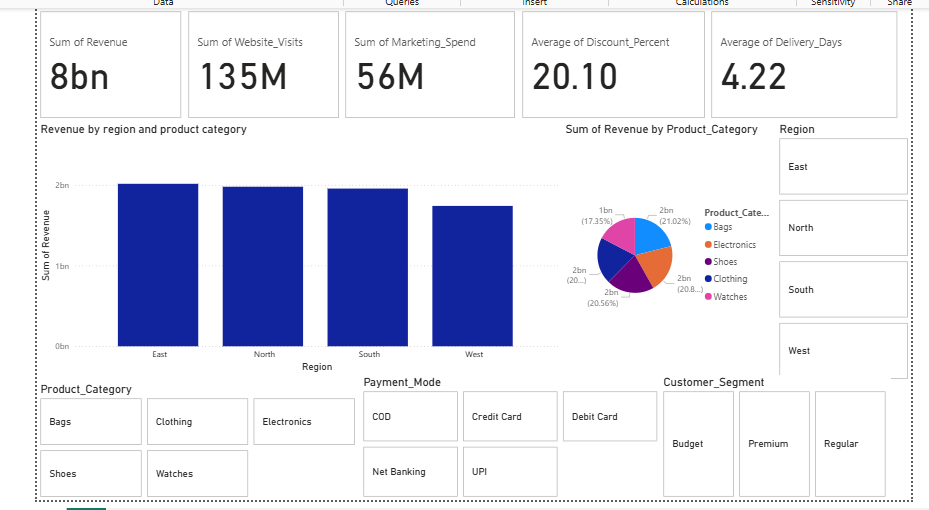

The dashboard page shown, as its layout file describes it:
{"tool":"powerbi","page":{"name":"Page 1","canvas":[1280,720],"ordinal":0},"visuals":[{"type":"columnChart","title":"Revenue by region and product category","fields":{"Category":["DATA1.Region"],"Y":["Sum(DATA1.Revenue)"]},"box":[0,166.3,767.7,371.2],"z":0},{"type":"cardVisual","fields":{"Data":["Sum(DATA1.Revenue)"]},"box":[0,0,216.7,166.3],"z":1},{"type":"cardVisual","fields":{"Data":["Sum(DATA1.Website_Visits)"]},"box":[216.7,0,230.1,166.3],"z":2},{"type":"cardVisual","fields":{"Data":["Sum(DATA1.Marketing_Spend)"]},"box":[446.8,0,258.7,166.3],"z":3},{"type":"cardVisual","fields":{"Data":["Avg(DATA1.Discount_Percent)"]},"box":[705.5,0,277.2,166.3],"z":4},{"type":"pieChart","fields":{"Category":["DATA1.Product_Category"],"Y":["Sum(DATA1.Revenue)"]},"box":[767.7,166.3,312.4,371.2],"z":5},{"type":"advancedSlicerVisual","fields":{"Values":["DATA1.Product_Category"]},"box":[0,547.6,472,173],"z":6},{"type":"advancedSlicerVisual","fields":{"Values":["DATA1.Region"]},"box":[1081.8,166.3,198.2,384.7],"z":7},{"type":"cardVisual","fields":{"Data":["Avg(DATA1.Delivery_Days)"]},"box":[982.7,0,282.2,166.3],"z":8},{"type":"advancedSlicerVisual","fields":{"Values":["DATA1.Customer_Segment"]},"box":[912.1,537.5,337.6,183.1],"z":9},{"type":"advancedSlicerVisual","fields":{"Values":["DATA1.Payment_Mode"]},"box":[472,537.5,440.1,183.1],"z":10}]}

Visuals, with their boxes on the page's 1280x720 design canvas (x1, y1, x2, y2). These are canvas units, not pixel positions in the 929x510 screenshot, which may show the page scaled, cropped or inside an application window:
"Revenue by region and product category" columnChart: crop(0, 166, 768, 538)
cardVisual - Sum(DATA1.Revenue): crop(0, 0, 217, 166)
cardVisual - Sum(DATA1.Website_Visits): crop(217, 0, 447, 166)
cardVisual - Sum(DATA1.Marketing_Spend): crop(447, 0, 706, 166)
cardVisual - Avg(DATA1.Discount_Percent): crop(706, 0, 983, 166)
pieChart - DATA1.Product_Category x Sum(DATA1.Revenue): crop(768, 166, 1080, 538)
advancedSlicerVisual - DATA1.Product_Category: crop(0, 548, 472, 721)
advancedSlicerVisual - DATA1.Region: crop(1082, 166, 1280, 551)
cardVisual - Avg(DATA1.Delivery_Days): crop(983, 0, 1265, 166)
advancedSlicerVisual - DATA1.Customer_Segment: crop(912, 538, 1250, 721)
advancedSlicerVisual - DATA1.Payment_Mode: crop(472, 538, 912, 721)
